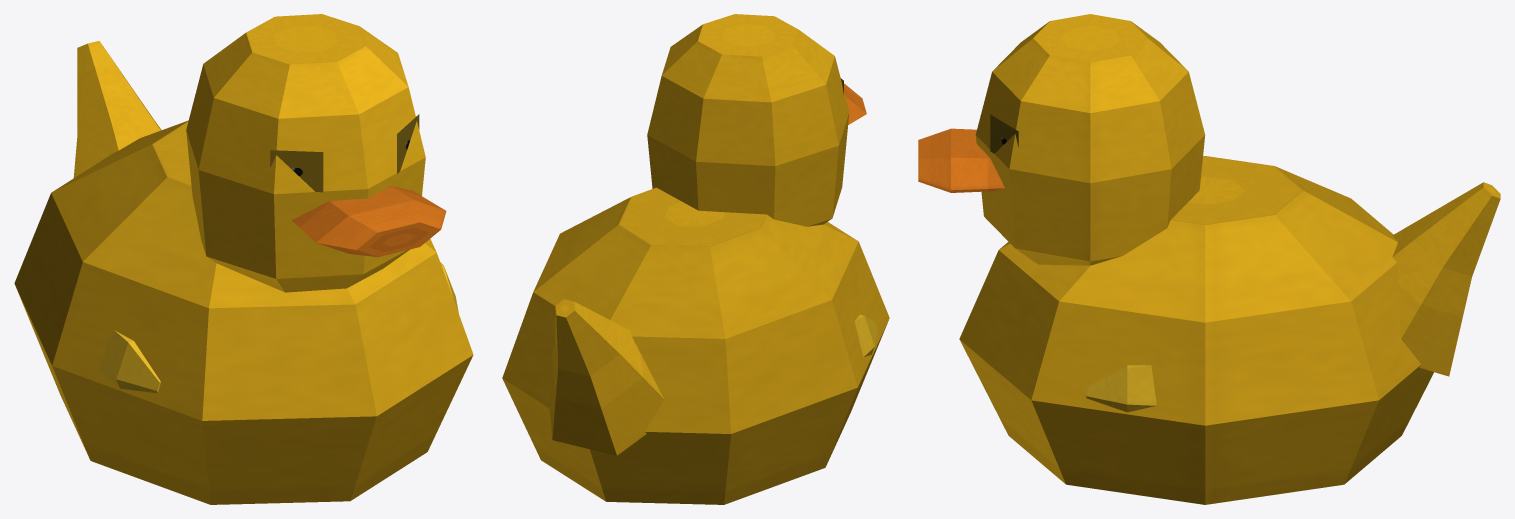
Rendered from rubber_duck.glb.
3 views of the same model, side by side, from view 1: azimuth 30°, elevation 25°; view 2: azimuth 150°, elevation 25°; view 3: azimuth 270°, elevation 25° (orthographic). The views are drawn at different scales.
Visible parts, largest first — view 1: core_rubber_duck; view 2: core_rubber_duck; view 3: core_rubber_duck.
Boxes of the visible parts, x1,y1,x2,y2 form: core_rubber_duck: (14, 14, 473, 504); core_rubber_duck: (502, 14, 889, 504); core_rubber_duck: (918, 14, 1500, 504).
Size of the model in its own units: 0.1 by 0.119 by 0.1421.
Materials: 1 (1 with a texture image).
